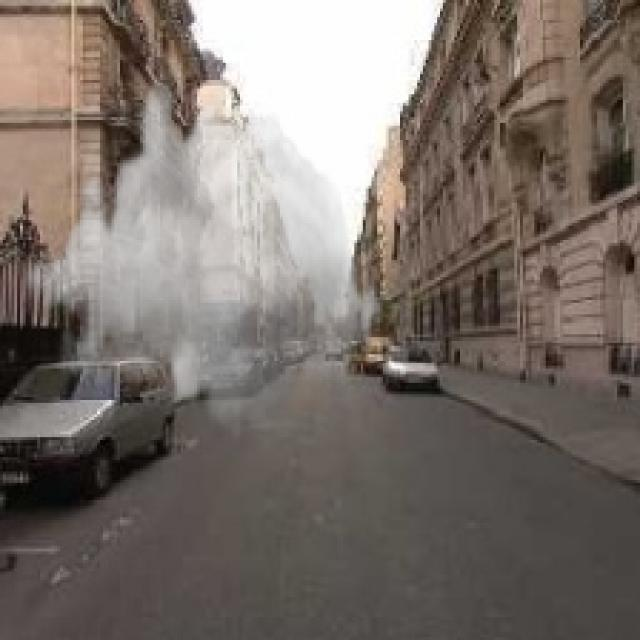smoke: (23, 71, 386, 446)
